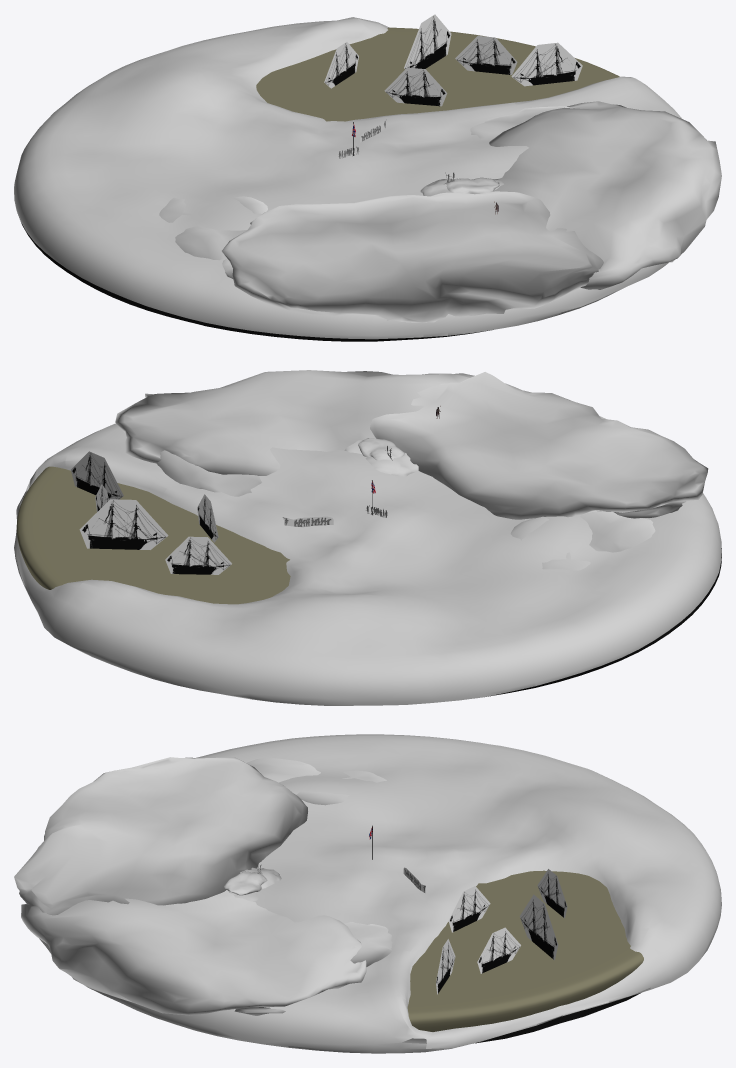
The model's file is Australian_invasion_v6.dae.
The picture shows the model from 3 angles, top to bottom: view 1: azimuth 30°, elevation 25°; view 2: azimuth 150°, elevation 25°; view 3: azimuth 270°, elevation 25°; orthographic projection. The views are drawn at different scales.
Visible parts, largest first — view 1: Terrain, Rocks, Water, Objects; view 2: Terrain, Rocks, Water, Objects; view 3: Terrain, Rocks, Water, Objects.
Boxes of the visible parts, x1,y1,x2,y2 form: Terrain: (14,17,681,341); Rocks: (159,101,721,322); Water: (256,27,619,121); Objects: (324,14,582,214); Terrain: (14,423,721,705); Rocks: (115,370,708,570); Water: (16,466,290,604); Objects: (71,406,440,574); Terrain: (39,734,721,1053); Rocks: (14,757,392,1015); Water: (407,870,643,1031); Objects: (257,825,567,994).
Size of the model in its own units: 10.02 by 1.31 by 10.13.
